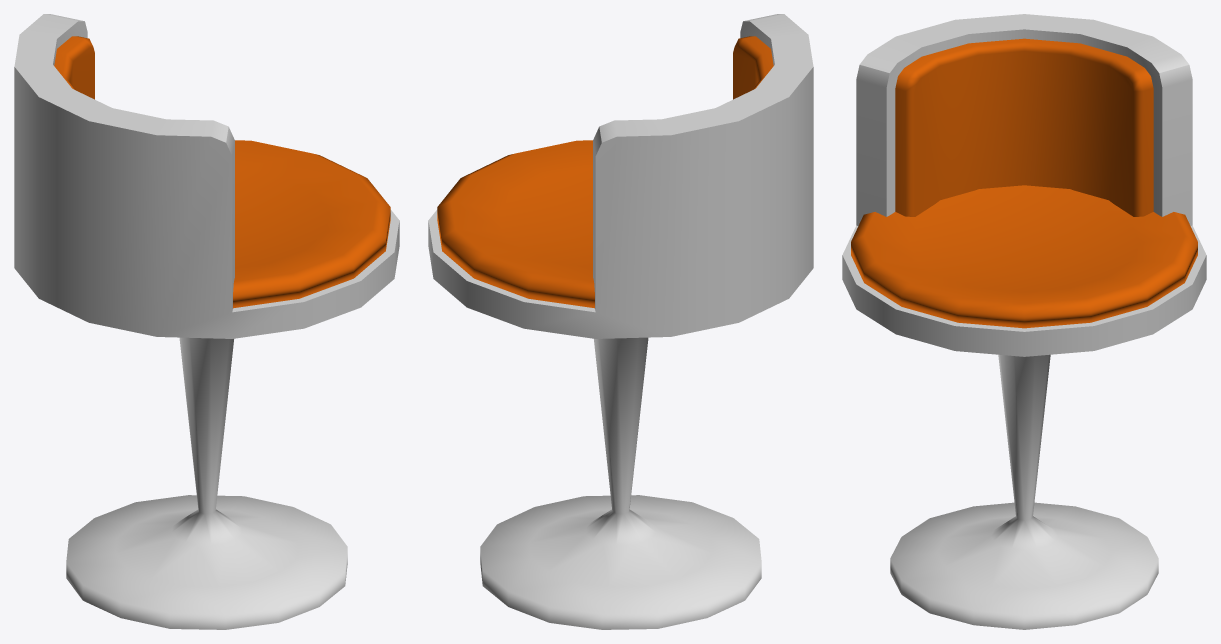
File: bar_chair.fbx
3 views of the same model, side by side, from view 1: azimuth 30°, elevation 25°; view 2: azimuth 150°, elevation 25°; view 3: azimuth 270°, elevation 25° (orthographic). The views are drawn at different scales.
Parts seen in each view (by area): view 1: pCylinder9; view 2: pCylinder9; view 3: pCylinder9.
Boxes of the visible parts, x1=… form: pCylinder9: x1=14, y1=14, x2=399, y2=629; pCylinder9: x1=428, y1=14, x2=813, y2=629; pCylinder9: x1=842, y1=14, x2=1206, y2=629.
Bounding box in the file's own units: 2 × 2.92 × 2.
